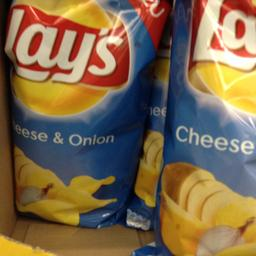chips: (10, 0, 169, 226), (152, 0, 255, 253)
